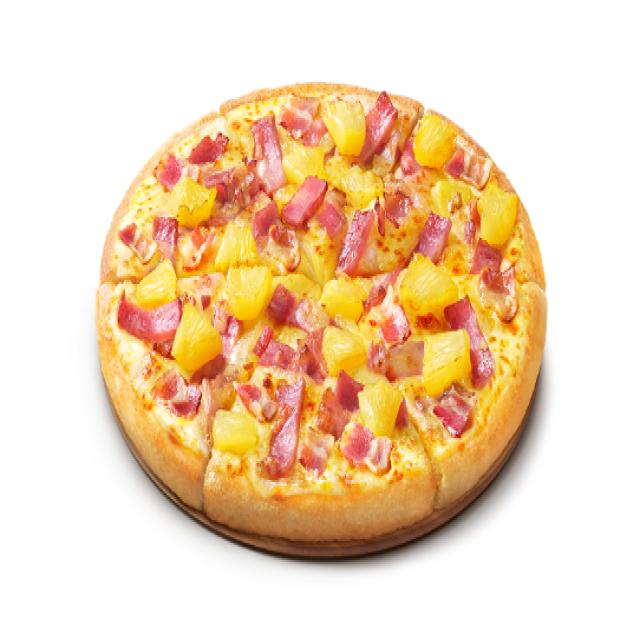Hawaiian Pizza: (189, 128, 432, 522)
